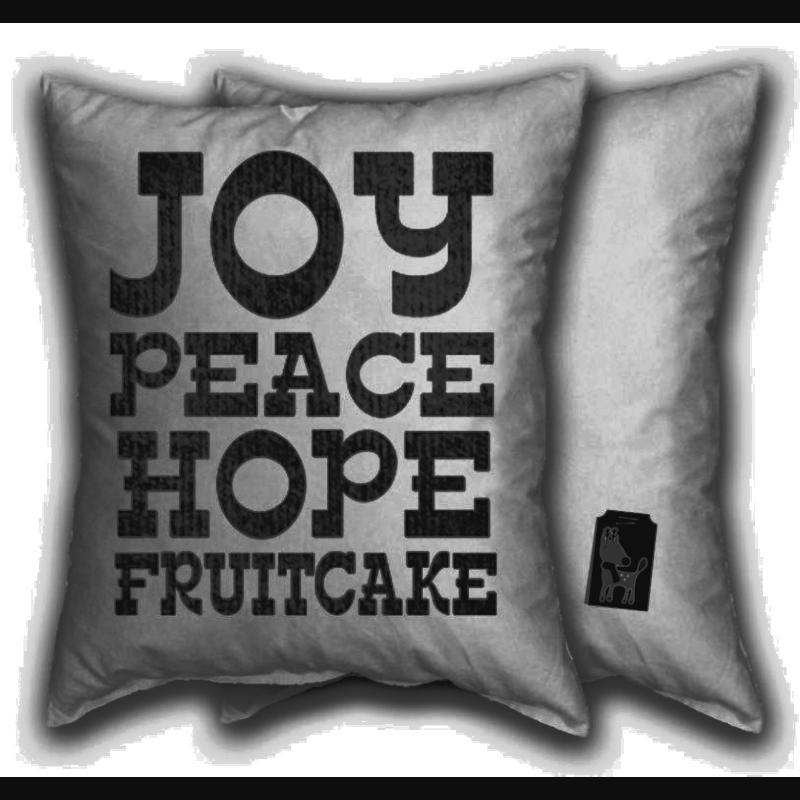pillow: (204, 52, 756, 734)
